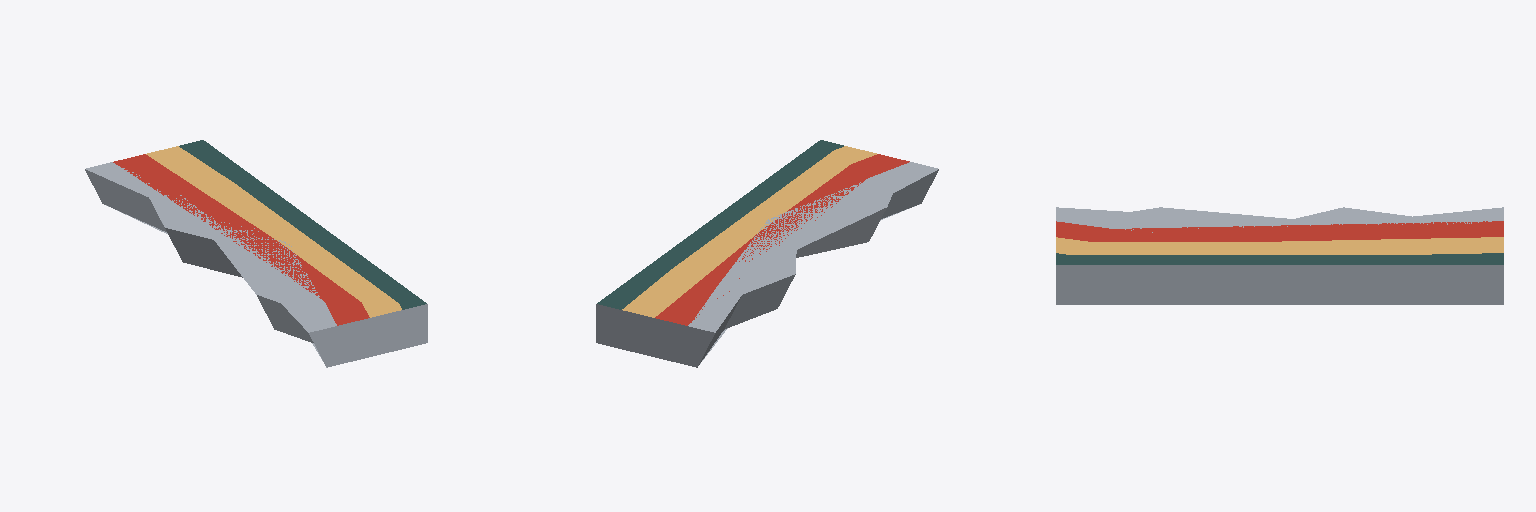
3 renders of one model, left to right at view 1: azimuth 30°, elevation 25°; view 2: azimuth 150°, elevation 25°; view 3: azimuth 270°, elevation 25°, orthographic.
Visible parts, largest first — view 1: Mesh1 Grey_Cliff_Top Model; view 2: Mesh1 Grey_Cliff_Top Model; view 3: Mesh1 Grey_Cliff_Top Model.
Boxes of the visible parts, x1=… form: Mesh1 Grey_Cliff_Top Model: x1=85, y1=140, x2=427, y2=367; Mesh1 Grey_Cliff_Top Model: x1=596, y1=140, x2=938, y2=367; Mesh1 Grey_Cliff_Top Model: x1=1056, y1=207, x2=1503, y2=304.
Size of the model in its own units: 0.92 by 0.29 by 3.
1 materials, 1 textured.